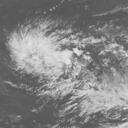cyclone: (5, 18, 74, 80)
